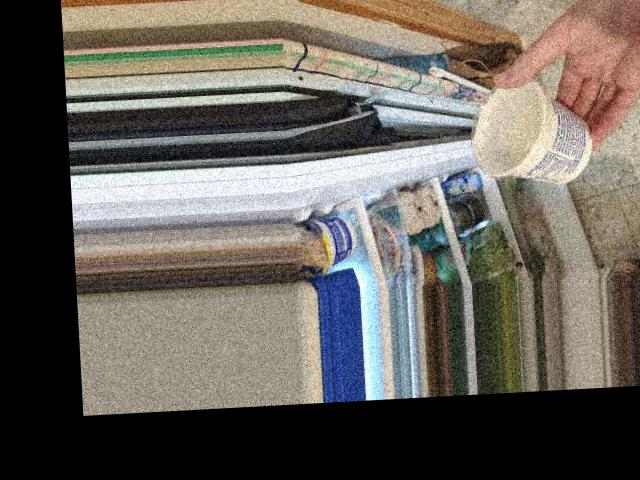cotage: (469, 82, 598, 179)
